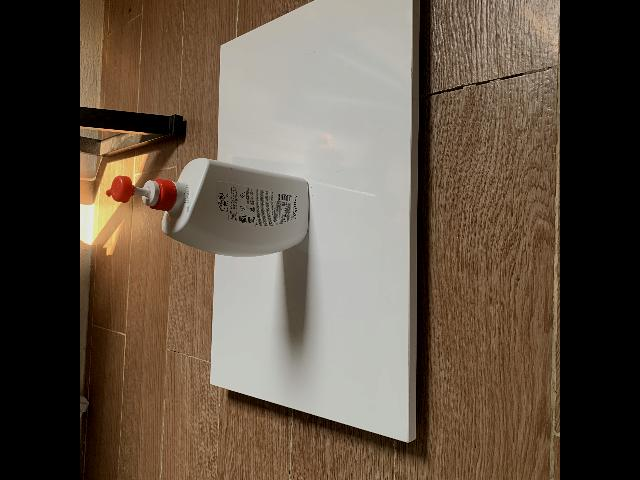life-buoy: (107, 157, 310, 256)
